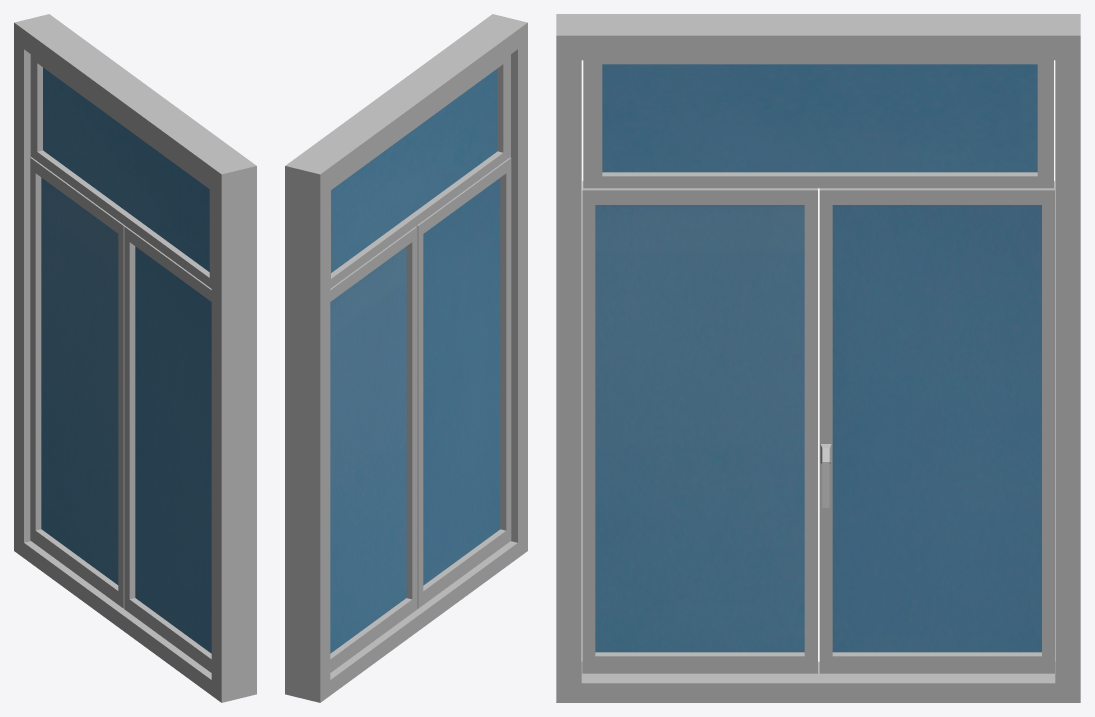
Rendered from window_01.fbx.
The picture shows the model from 3 angles, left to right: view 1: azimuth 30°, elevation 25°; view 2: azimuth 150°, elevation 25°; view 3: azimuth 270°, elevation 25°; orthographic projection. The views are drawn at different scales.
Parts seen in each view (by area): view 1: window_01; view 2: window_01; view 3: window_01.
Part boxes in pixels (x1,y1,x2,y2): window_01: [14, 14, 256, 702]; window_01: [285, 14, 527, 702]; window_01: [556, 14, 1080, 702].
Bounding box in the file's own units: 12.09 × 173 × 123.
